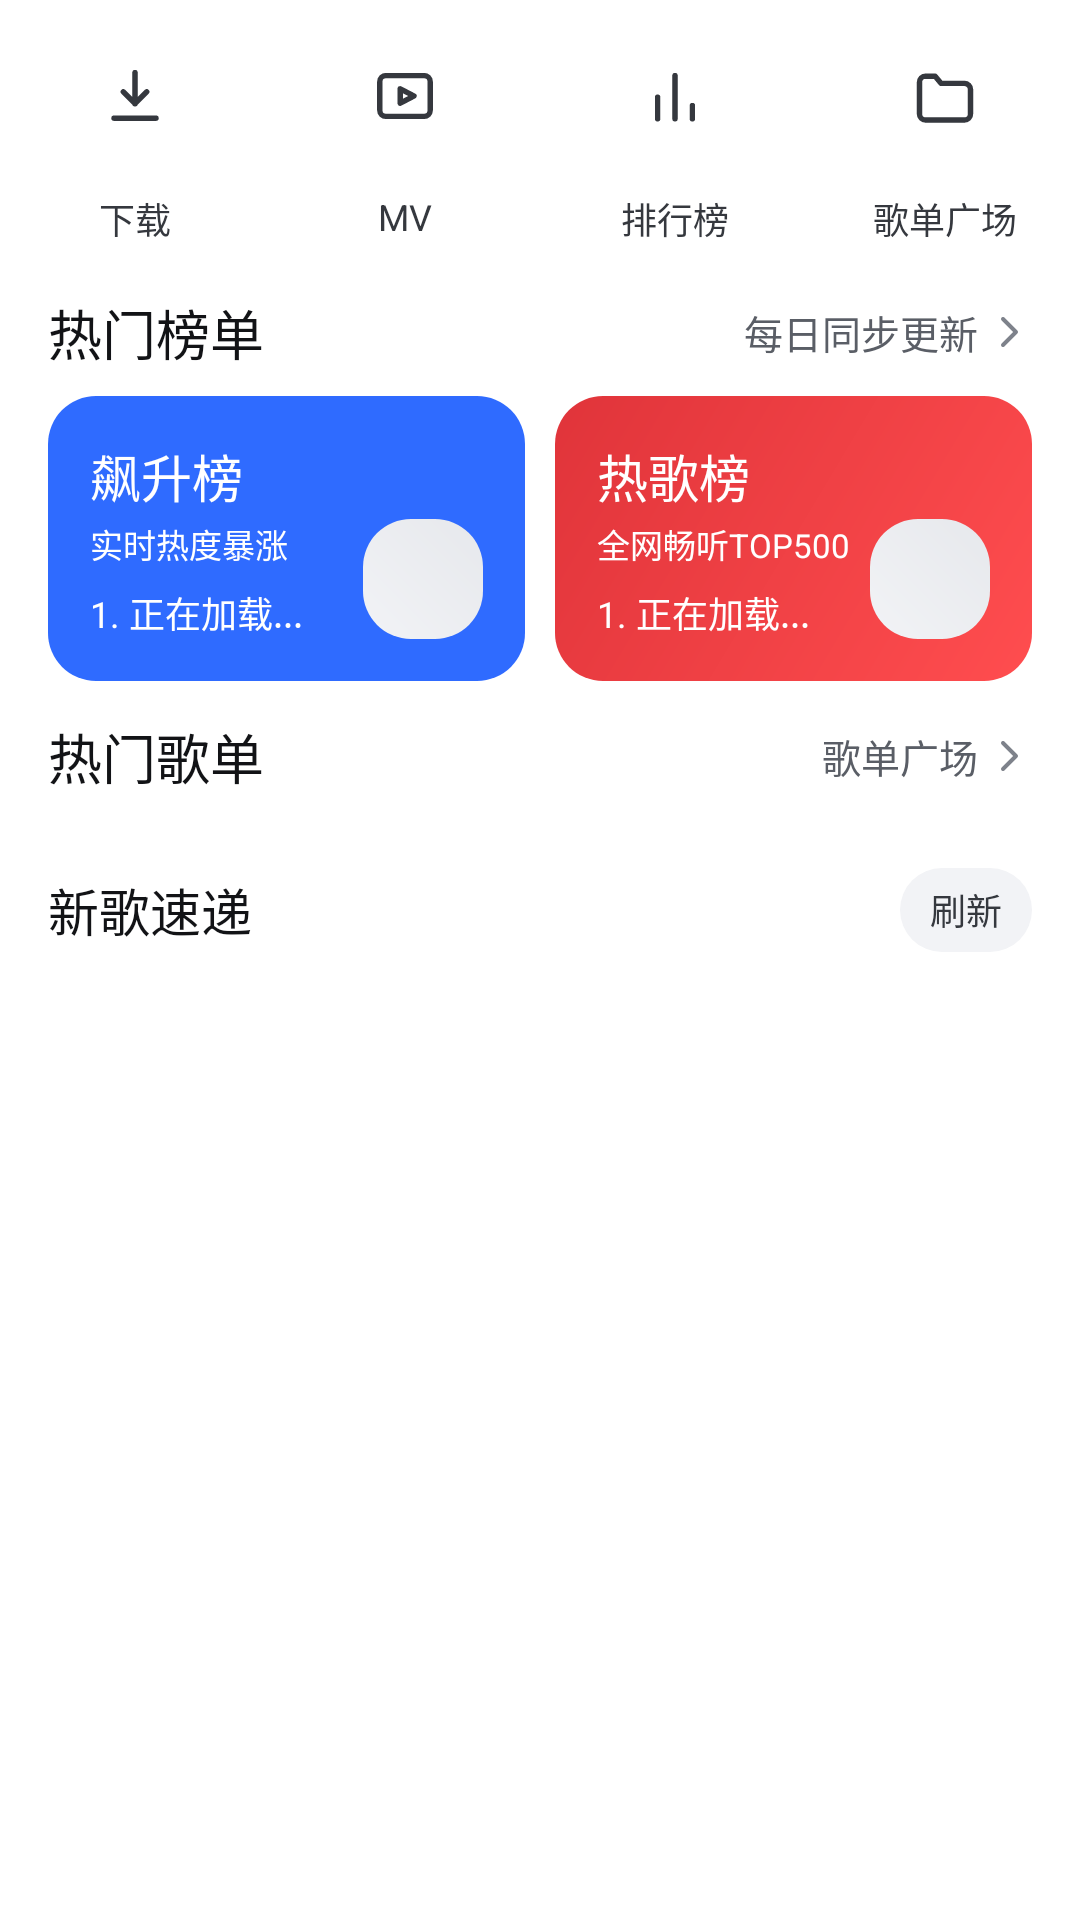

Icon click points for this 1080×1920 phone screenshot, format point (x, y):
func download: point (135, 95)
func folder: point (945, 98)
func mv: point (405, 96)
func rank: point (675, 97)
